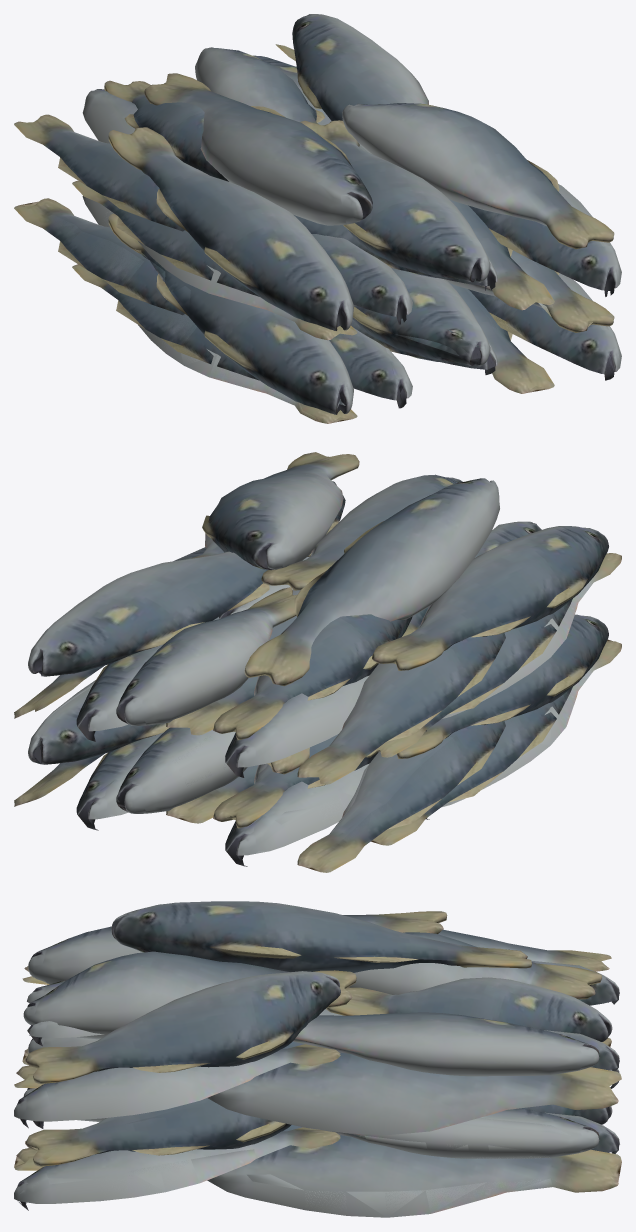
File: FishPile.glb
The picture shows the model from 3 angles, top to bottom: view 1: azimuth 30°, elevation 25°; view 2: azimuth 150°, elevation 25°; view 3: azimuth 270°, elevation 25°; orthographic projection. The views are drawn at different scales.
Parts seen in each view (by area): view 1: Fish_Pile; view 2: Fish_Pile; view 3: Fish_Pile.
Part boxes in pixels (x1,y1,x2,y2): Fish_Pile: (14, 14, 621, 423); Fish_Pile: (14, 452, 621, 872); Fish_Pile: (14, 901, 621, 1217).
Size of the model in its own units: 0.4425 by 0.2589 by 0.6673.
1 material, 1 textured.
